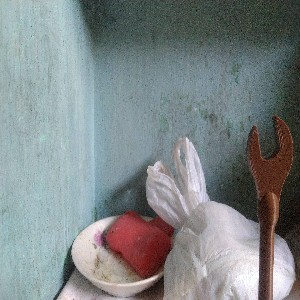spanner: (245, 117, 294, 300)
